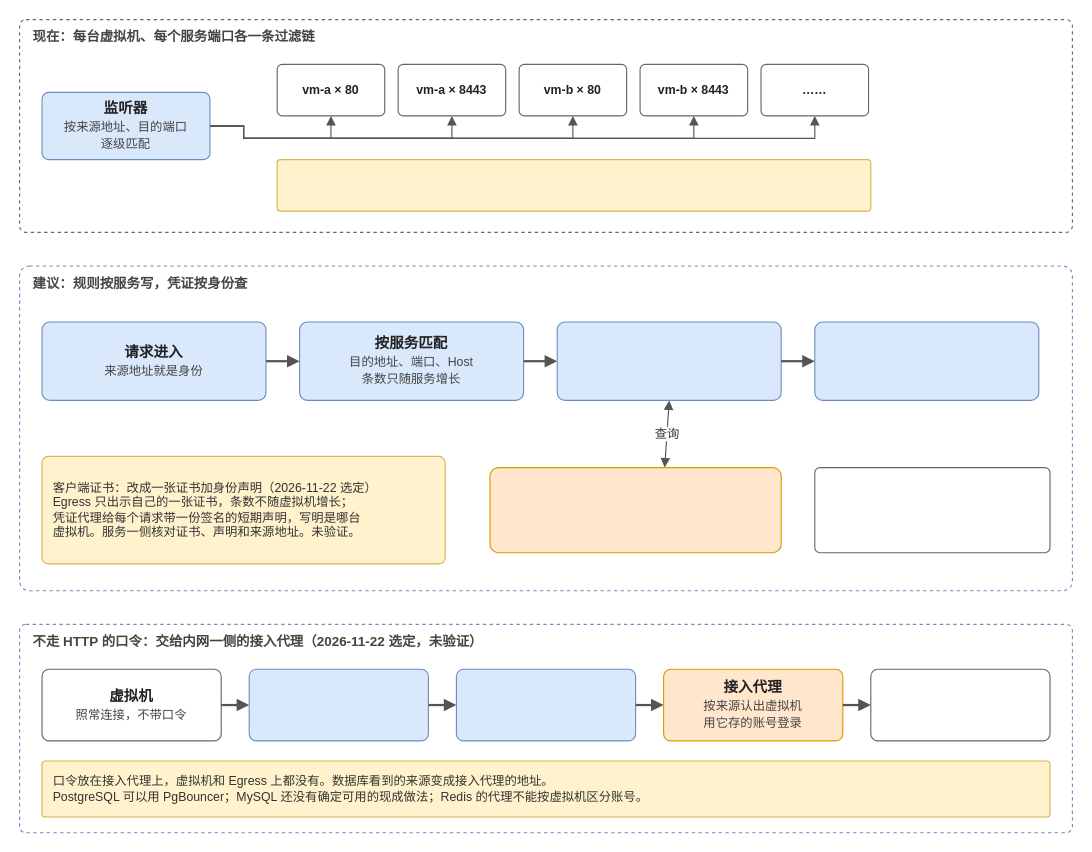
The diagram is 1092 pixels wide and 852 high, and some of its shapes have lost their labels. Each missing label, with the centre of its shape:
"Egress 四层转发 可选：出示自己的证书" goes at point 338,704.
"Envoy 的外部授权过滤器 可以在放行时改写请求头， 实验第 4 期验证。" goes at point 932,509.
"凭证直接写在每条链的配置里。3 台虚拟机 35 条； 十万台是百万条量级，配置的体积和加载时间都不可行。" goes at point 573,184.
"数据库 只接受接入代理的连接" goes at point 960,704.
"本机凭证代理 内存里一张表：身份 × 服务 → 凭证 由控制面下发，凭证不写进 Envoy 配置" goes at point 635,509.
"查这台虚拟机的凭证 来源地址 × 服务 查不到就不带凭证" goes at point 668,360.
"注入并转发 覆盖虚拟机自带的 同名请求头" goes at point 926,360.
"网关 换成内网 IP，进隧道" goes at point 545,704.
